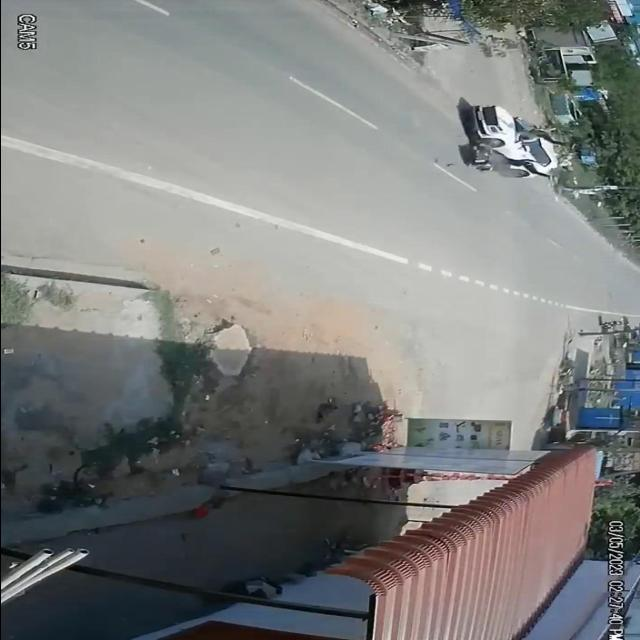accident: (443, 98, 582, 194)
